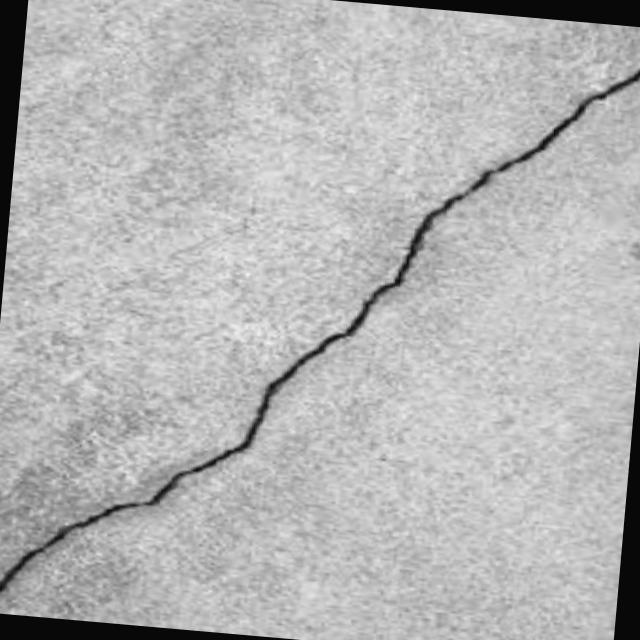crack: (0, 307, 347, 640), (328, 28, 640, 363)
